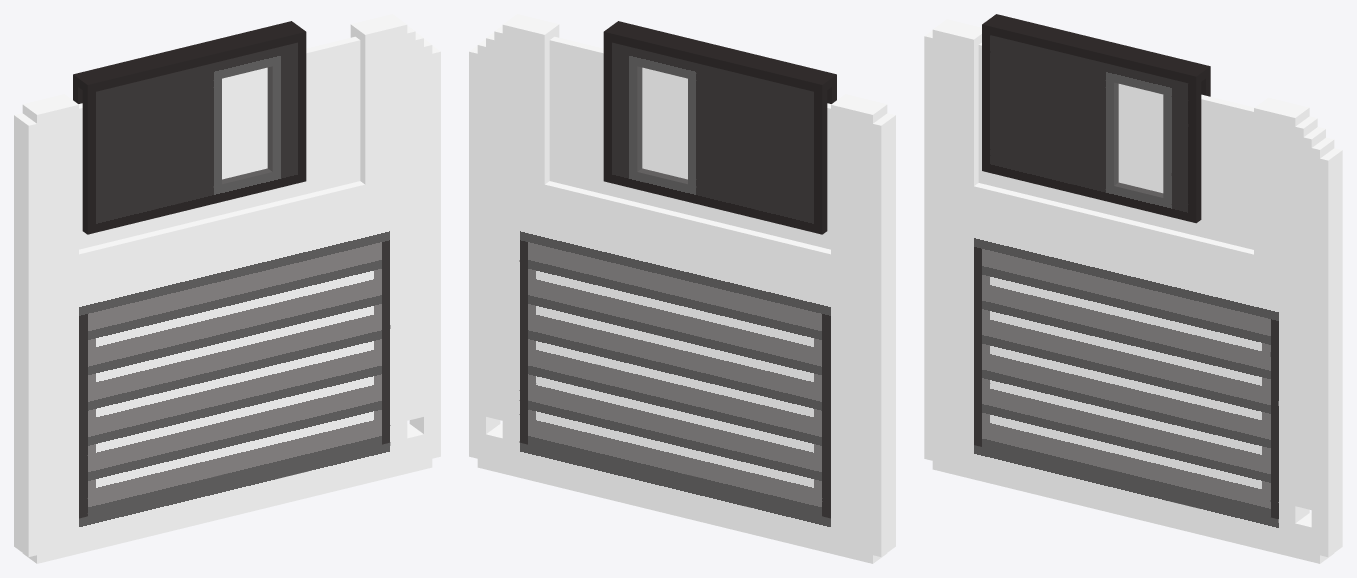
File: disk_34.glb
3 renders of one model, left to right at view 1: azimuth 30°, elevation 25°; view 2: azimuth 150°, elevation 25°; view 3: azimuth 330°, elevation 25°, orthographic. The views are drawn at different scales.
Parts seen in each view (by area): view 1: model-material.001, model-material; view 2: model-material.001, model-material; view 3: model-material.001, model-material.
Boxes of the visible parts, x1,y1,x2,y2 form: model-material.001: (14, 14, 440, 563); model-material: (73, 21, 306, 234); model-material.001: (469, 14, 895, 563); model-material: (603, 21, 836, 234); model-material.001: (924, 19, 1342, 563); model-material: (982, 14, 1210, 223).
Size of the model in its own units: 49 by 53 by 3.
Materials: 1 (1 with a texture image).
